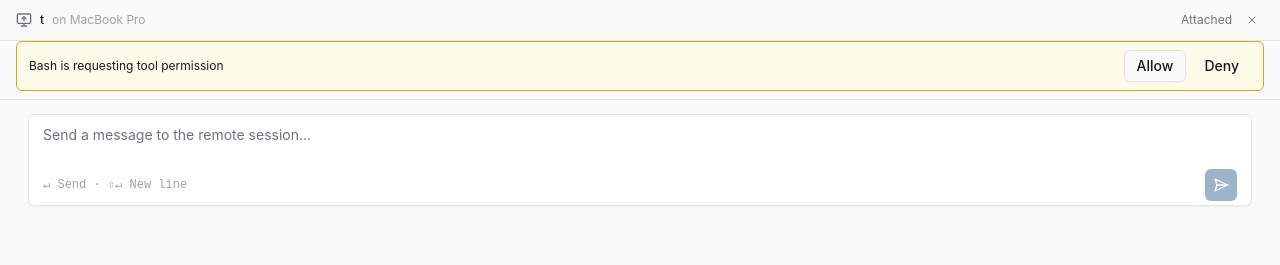
PeerPanel › renders a pending tool-permission decision and shows the already-handled notice on submit
The image size is (1280, 265).
Expected: the element with test id "peer-permission-card" is shown, top-left (16, 41), bottom-right (1264, 91)
Click the button "Allow" at (1155, 66), box top-left (1124, 50), bottom-right (1186, 82)
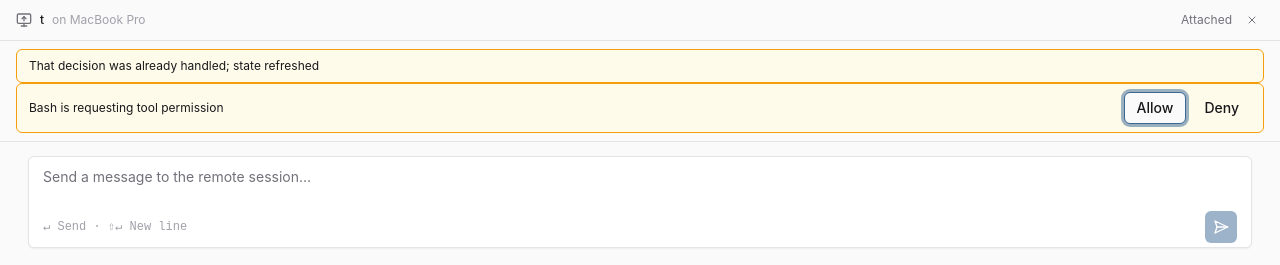
Result: the text with test id "peer-notice" shows "already handled" at top-left (29, 58), bottom-right (319, 73)
